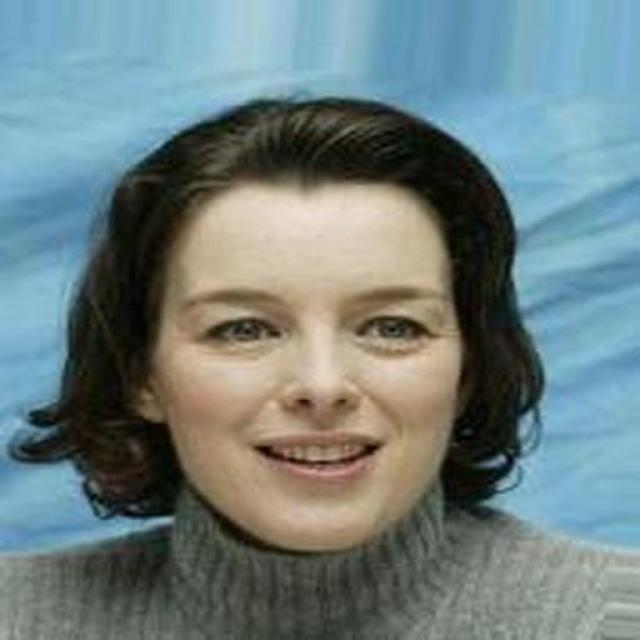bareface: (89, 95, 567, 568)
